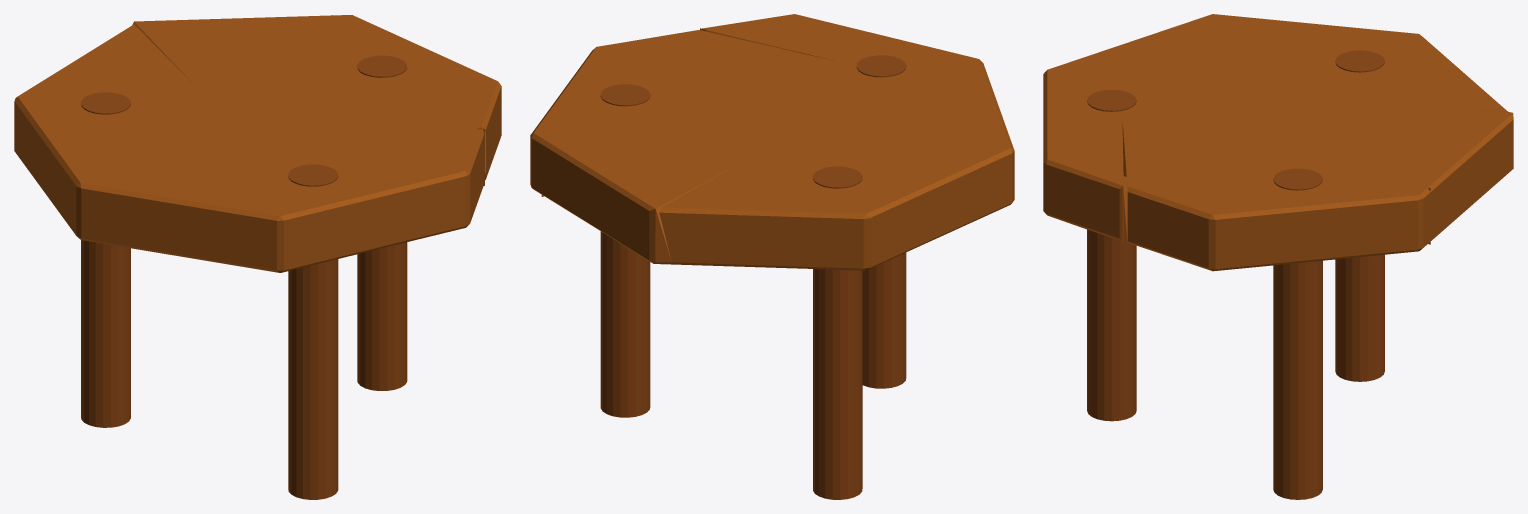
File: TABLE-3LEGS.fbx
3 views of the same model, side by side, from view 1: azimuth 30°, elevation 25°; view 2: azimuth 150°, elevation 25°; view 3: azimuth 270°, elevation 25° (orthographic).
Parts seen in each view (by area): view 1: Cylinder, Cylinder.003, Cylinder.002, Cylinder.004; view 2: Cylinder, Cylinder.002, Cylinder.004, Cylinder.003; view 3: Cylinder, Cylinder.004, Cylinder.003, Cylinder.002.
Boxes of the visible parts, x1=… form: Cylinder: x1=14, y1=15, x2=501, y2=272; Cylinder.003: x1=288, y1=164, x2=338, y2=499; Cylinder.002: x1=81, y1=92, x2=130, y2=427; Cylinder.004: x1=357, y1=55, x2=407, y2=390; Cylinder: x1=530, y1=14, x2=1014, y2=270; Cylinder.002: x1=813, y1=166, x2=862, y2=499; Cylinder.004: x1=600, y1=84, x2=650, y2=417; Cylinder.003: x1=856, y1=55, x2=906, y2=388; Cylinder: x1=1043, y1=14, x2=1513, y2=271; Cylinder.004: x1=1273, y1=168, x2=1322, y2=499; Cylinder.003: x1=1087, y1=89, x2=1136, y2=421; Cylinder.002: x1=1335, y1=50, x2=1384, y2=381.
Size of the model in its own units: 77.72 by 55.2 by 75.77.
